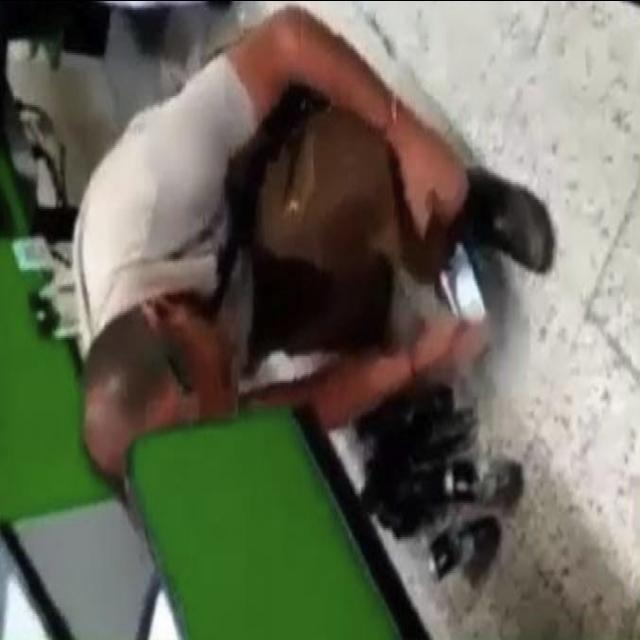Shoplifting: (32, 2, 640, 574)
